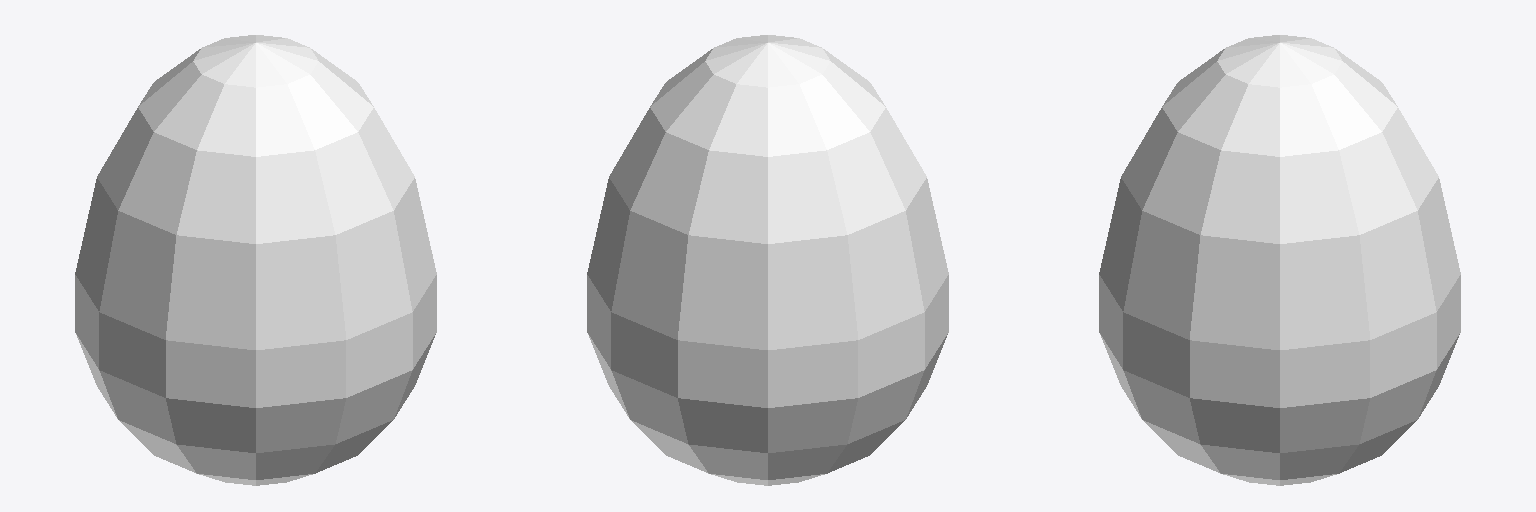
3 views of the same model, side by side, from view 1: azimuth 30°, elevation 25°; view 2: azimuth 150°, elevation 25°; view 3: azimuth 270°, elevation 25° (orthographic).
Parts seen in each view (by area): view 1: group[number redacted]; view 2: group[number redacted]; view 3: group[number redacted].
Part boxes in pixels (x1,y1,x2,y2): group[number redacted]: (75, 35, 436, 485); group[number redacted]: (587, 35, 948, 485); group[number redacted]: (1099, 35, 1460, 485).
Size of the model in its own units: 0.3841 by 0.5 by 0.3841.